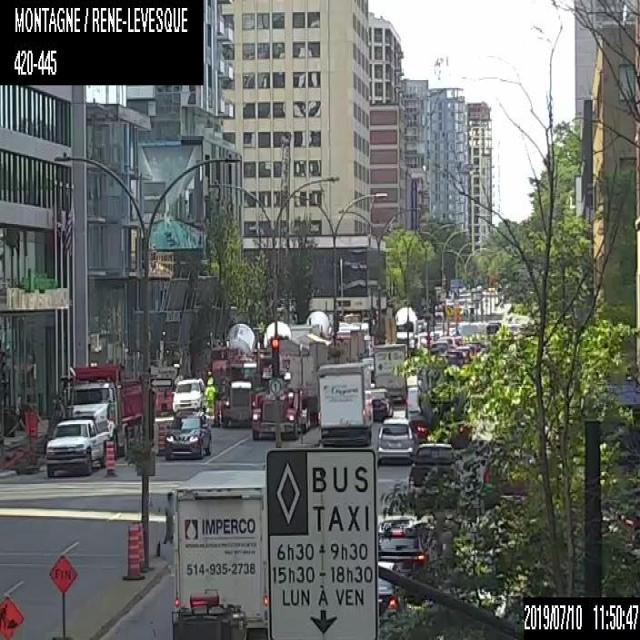construction: (50, 553, 77, 639), (116, 518, 146, 578), (0, 594, 22, 638), (103, 433, 117, 476), (26, 409, 36, 452), (157, 424, 166, 456), (0, 630, 6, 638)
pedestrian: (161, 489, 173, 544), (204, 375, 214, 415)
vehicle: (171, 465, 267, 639), (252, 338, 328, 442), (65, 365, 148, 454), (317, 362, 373, 448), (170, 586, 246, 638), (44, 420, 112, 478), (208, 323, 254, 398), (376, 511, 439, 563), (408, 443, 458, 506), (220, 358, 262, 430), (165, 407, 212, 460), (372, 343, 406, 402), (376, 417, 416, 464), (375, 560, 401, 618), (406, 383, 433, 435), (171, 376, 206, 412), (260, 320, 291, 348), (394, 304, 414, 346), (369, 387, 394, 418), (440, 349, 466, 369), (438, 336, 463, 352), (486, 320, 500, 338)
